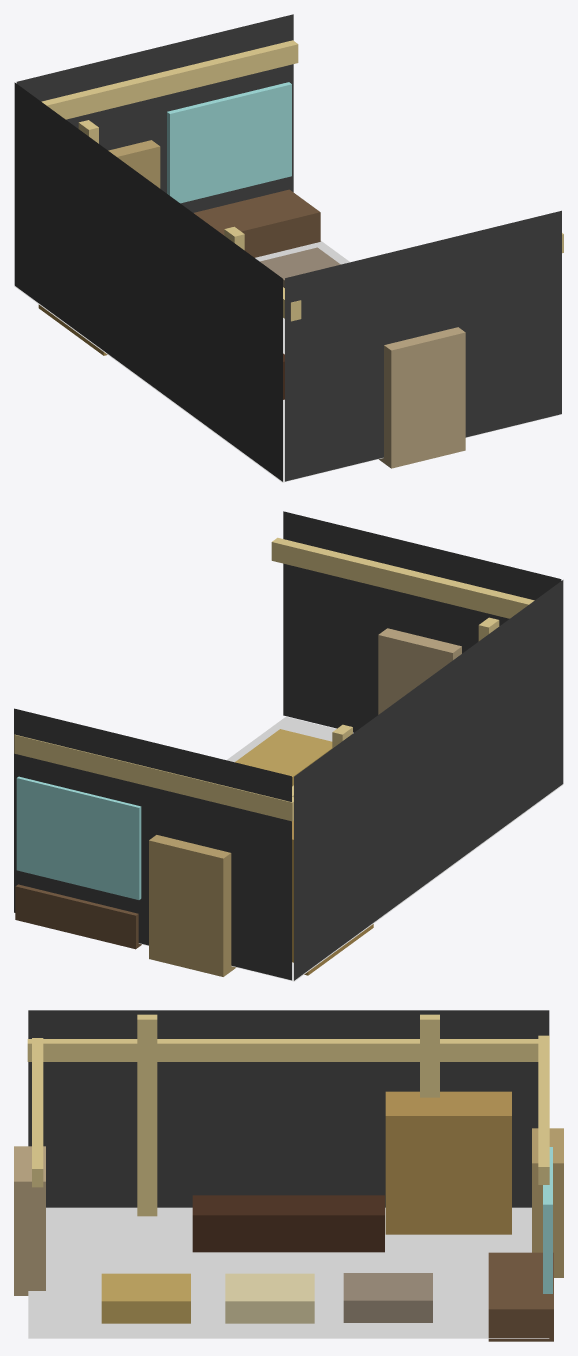
The model's file is room.fbx.
The picture shows the model from 3 angles, top to bottom: view 1: azimuth 30°, elevation 25°; view 2: azimuth 150°, elevation 25°; view 3: azimuth 270°, elevation 25°; orthographic projection. The views are drawn at different scales.
Visible parts, largest first — view 1: sienas3, sienas2, sienas1, logs, durvis storage, koks2, frozen, grida, 3 day kaste, durvis veikalam; view 2: sienas3, sienas1, sienas2, logs, durvis veikalam, koks5, koks2, frozen, durvis storage, 1 day, grida, skapis 4 days; view 3: sienas3, grida, skapis 4 days, koks, kase, frozen, 2 day kaste, 1 day, 3 day kaste, durvis storage, koks4, durvis veikalam (+4 smaller).
Boxes of the visible parts, x1,y1,x2,y2 form: sienas3: (14, 82, 282, 481); sienas2: (285, 210, 561, 481); sienas1: (16, 14, 293, 212); logs: (167, 82, 291, 203); durvis storage: (379, 327, 465, 468); koks2: (41, 40, 298, 119); frozen: (194, 189, 320, 257); grida: (14, 241, 558, 482); 3 day kaste: (260, 247, 340, 287); durvis veikalam: (108, 140, 160, 188); sienas3: (294, 580, 563, 980); sienas1: (14, 708, 291, 980); sienas2: (283, 511, 561, 732); logs: (16, 776, 141, 899); durvis veikalam: (149, 835, 236, 976); koks5: (271, 537, 534, 618); koks2: (14, 734, 293, 821); frozen: (15, 884, 141, 949); durvis storage: (378, 628, 461, 714); 1 day: (235, 729, 332, 786); grida: (139, 716, 563, 981); skapis 4 days: (292, 820, 373, 975); sienas3: (28, 1010, 549, 1207); grida: (28, 1207, 549, 1338); skapis 4 days: (385, 1091, 511, 1234); koks: (27, 1039, 549, 1061); kase: (192, 1195, 384, 1252); frozen: (488, 1252, 553, 1341); 2 day kaste: (225, 1273, 314, 1323); 1 day: (101, 1273, 190, 1323); 3 day kaste: (343, 1273, 432, 1322); durvis storage: (14, 1146, 45, 1295); koks4: (137, 1014, 157, 1216); durvis veikalam: (532, 1128, 563, 1277).
Size of the model in its own units: 971 by 698 by 1681.
